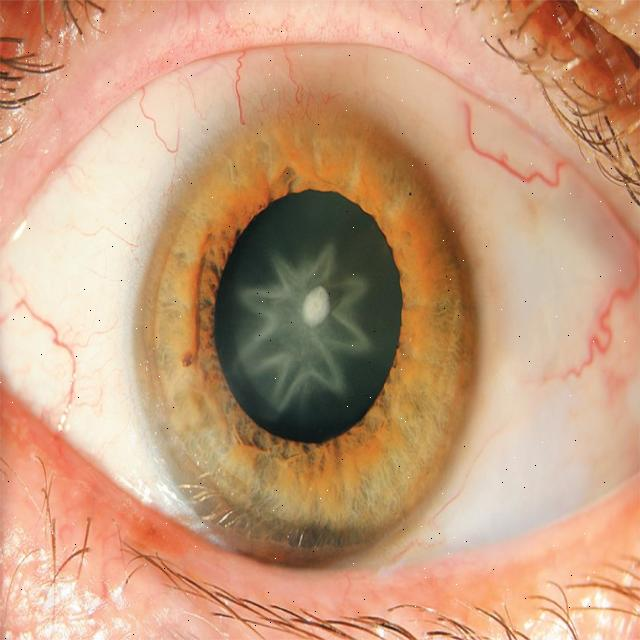Cataract: (132, 87, 478, 580)
